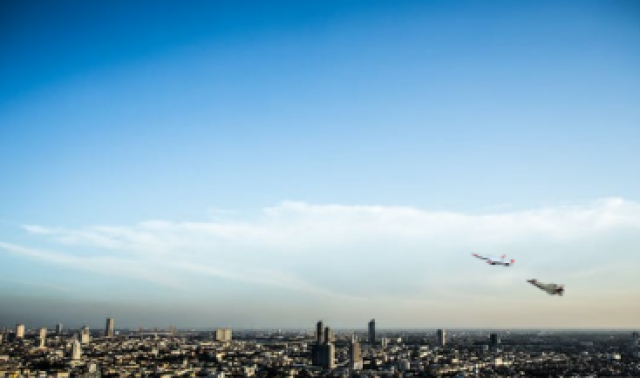airplane: (525, 278, 565, 297)
military drone: (470, 251, 515, 267)
